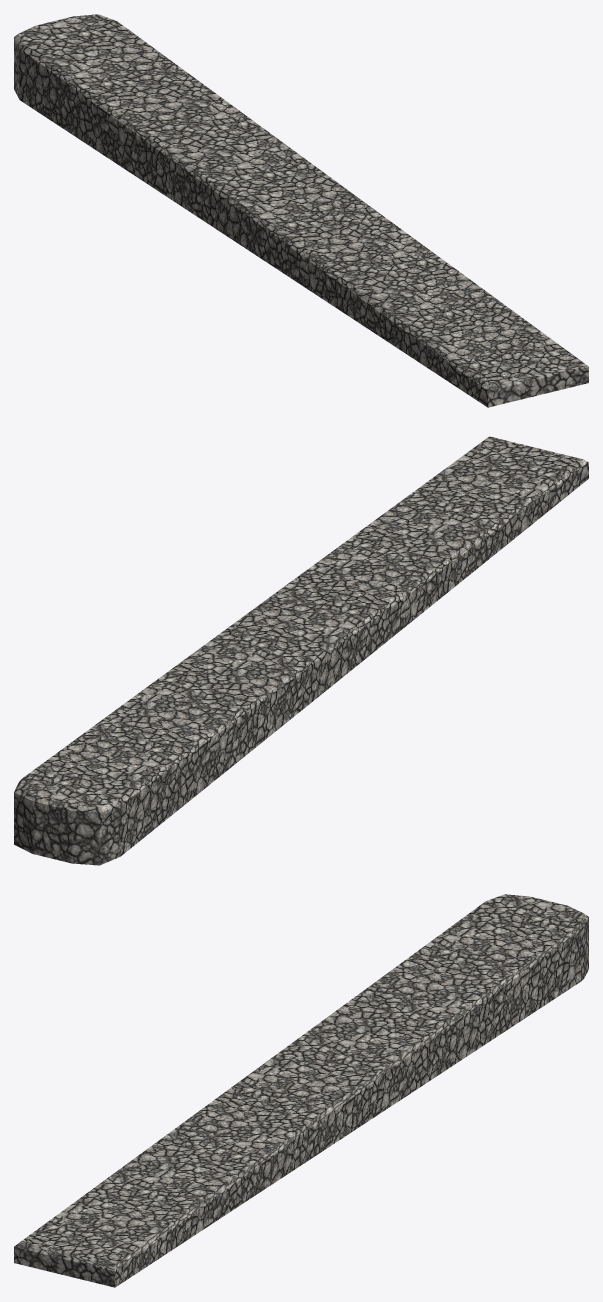
The model's file is breackwater.FBX.
3 views of the same model, one above another, from view 1: azimuth 30°, elevation 25°; view 2: azimuth 150°, elevation 25°; view 3: azimuth 330°, elevation 25° (orthographic).
Parts seen in each view (by area): view 1: breakwater_LOD0; view 2: breakwater_LOD0; view 3: breakwater_LOD0.
Part boxes in pixels (x1,y1,x2,y2): breakwater_LOD0: [14, 14, 588, 407]; breakwater_LOD0: [14, 436, 588, 865]; breakwater_LOD0: [14, 894, 588, 1287].
Size of what is drawn, in the model's own units: 8.39 by 4.48 by 69.92.
